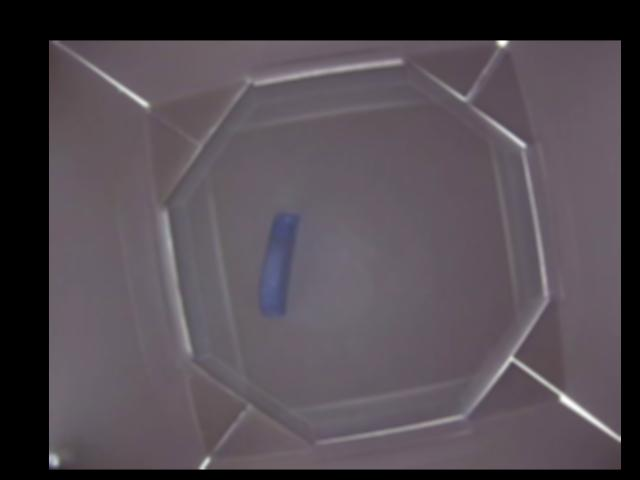Mooli: (256, 212, 298, 316)
